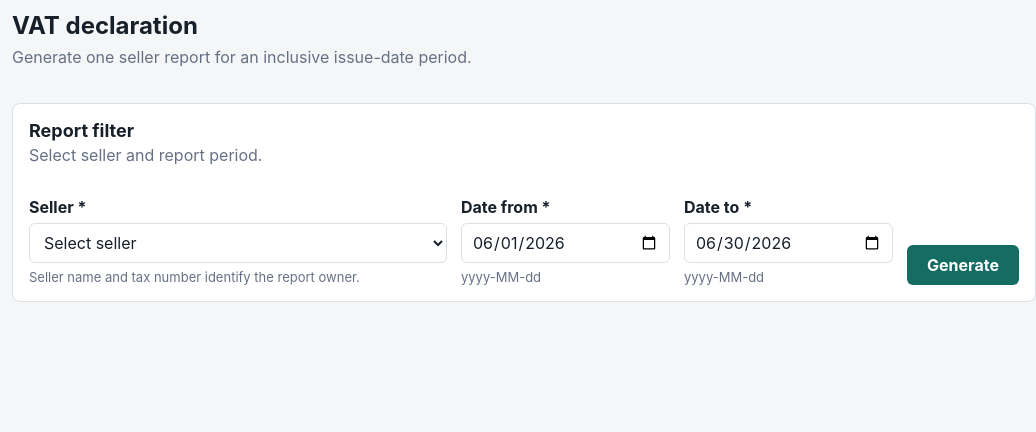
ReportPage › shows client validation errors before API report request
Click the button "Generate" at (963, 265), box [907,245,1019,285]
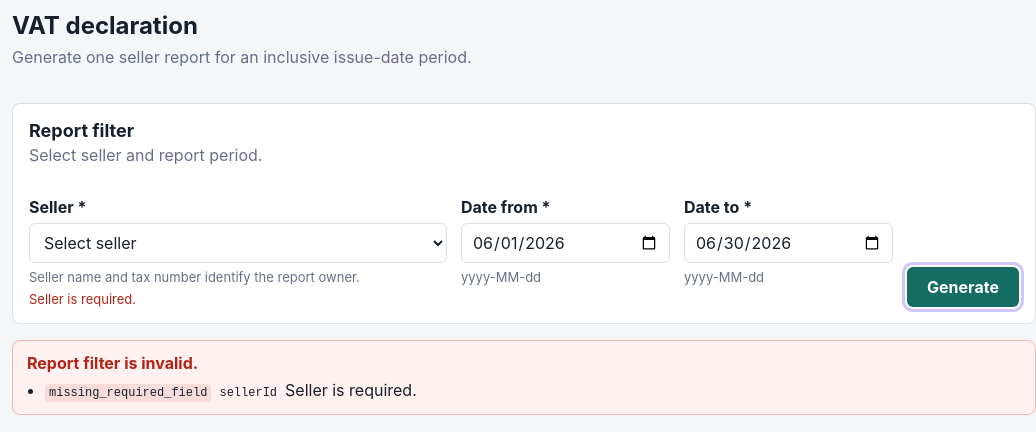
Now the text "Seller is required." below "Date from" is shown, box [29,291,136,307]
Now the text "Report filter is invalid." is shown, box [27,353,198,373]
